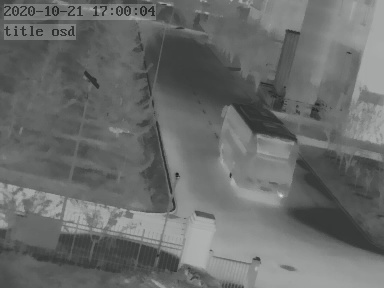vehicle: (218, 103, 300, 199)
